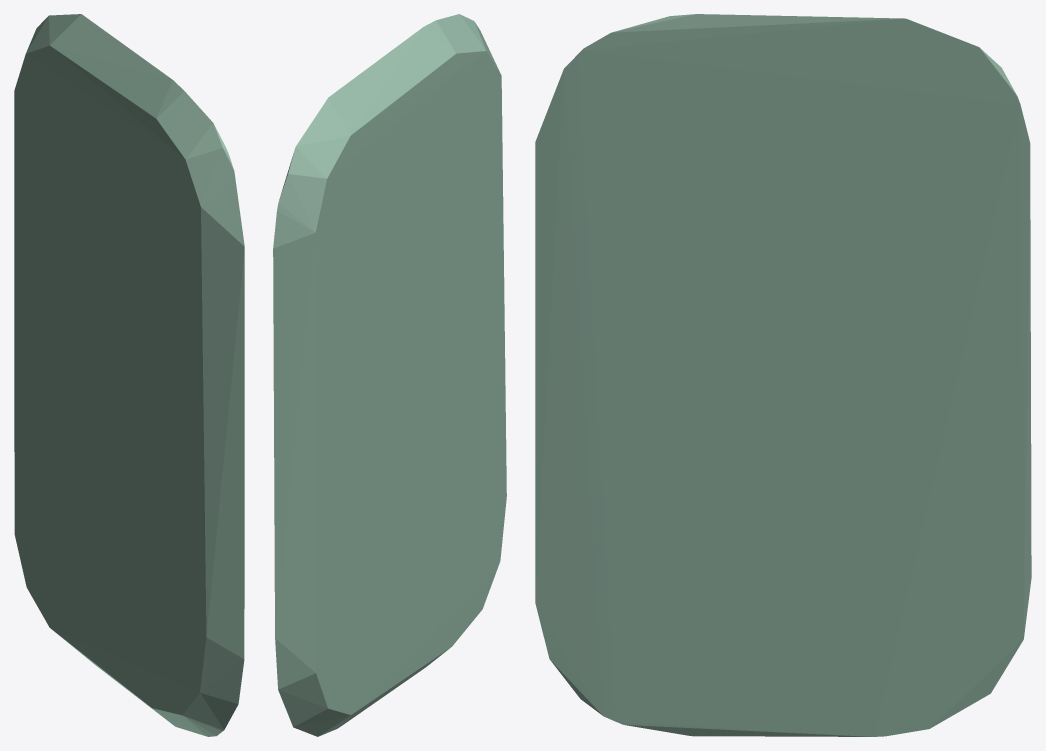
File: mirror_bathroom_a01.glb
3 renders of one model, left to right at view 1: azimuth 30°, elevation 25°; view 2: azimuth 150°, elevation 25°; view 3: azimuth 270°, elevation 25°, orthographic. The views are drawn at different scales.
Visible parts, largest first — view 1: geometry_0; view 2: geometry_0; view 3: geometry_0.
Boxes of the visible parts, bbox=[...] form: geometry_0: bbox=[14, 14, 244, 736]; geometry_0: bbox=[273, 14, 506, 736]; geometry_0: bbox=[535, 14, 1031, 736].
Size of the model in its own units: 0.0217 by 0.4796 by 0.2986.
